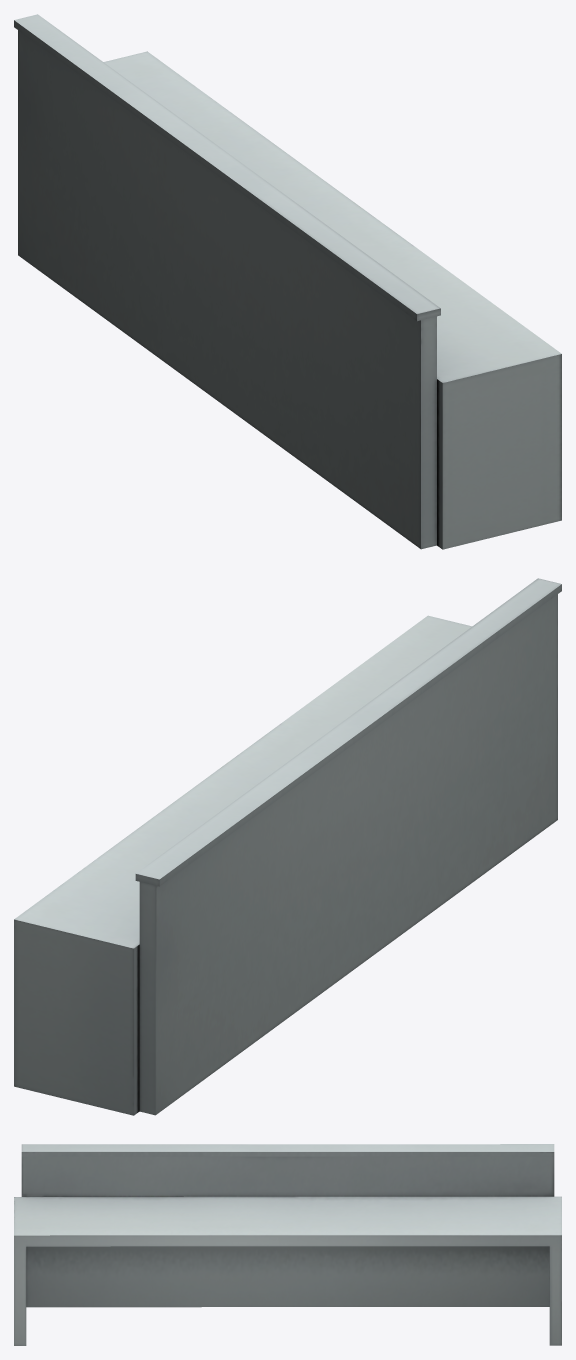
File: 3DGJ_chksh_zhzibg_xp_wmr_DT_001.FBX
3 views of the same model, one above another, from view 1: azimuth 30°, elevation 25°; view 2: azimuth 150°, elevation 25°; view 3: azimuth 270°, elevation 25° (orthographic). The views are drawn at different scales.
Visible parts, largest first — view 1: 3DGJ_chksh_zhzibg_xp_wmrz; view 2: 3DGJ_chksh_zhzibg_xp_wmrz; view 3: 3DGJ_chksh_zhzibg_xp_wmrz.
Boxes of the visible parts, x1,y1,x2,y2 form: 3DGJ_chksh_zhzibg_xp_wmrz: (14, 14, 561, 549); 3DGJ_chksh_zhzibg_xp_wmrz: (14, 578, 561, 1115); 3DGJ_chksh_zhzibg_xp_wmrz: (14, 1144, 561, 1345).
Bounding box in the file's own units: 0.7048 × 1.13 × 3.6.
